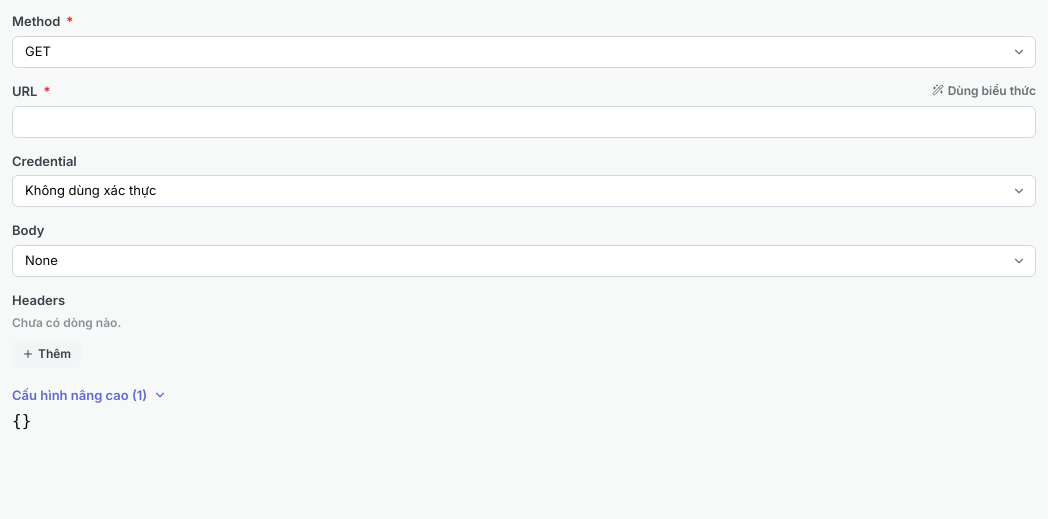
Test case: advanced fields › are collapsed until asked for
Expected: the text "Timeout" is not shown
# The label states how many are hidden, so the section is not a mystery.
Click the button "Cấu hình nâng cao (1)".
click(90, 395)  # box [12,382,167,409]
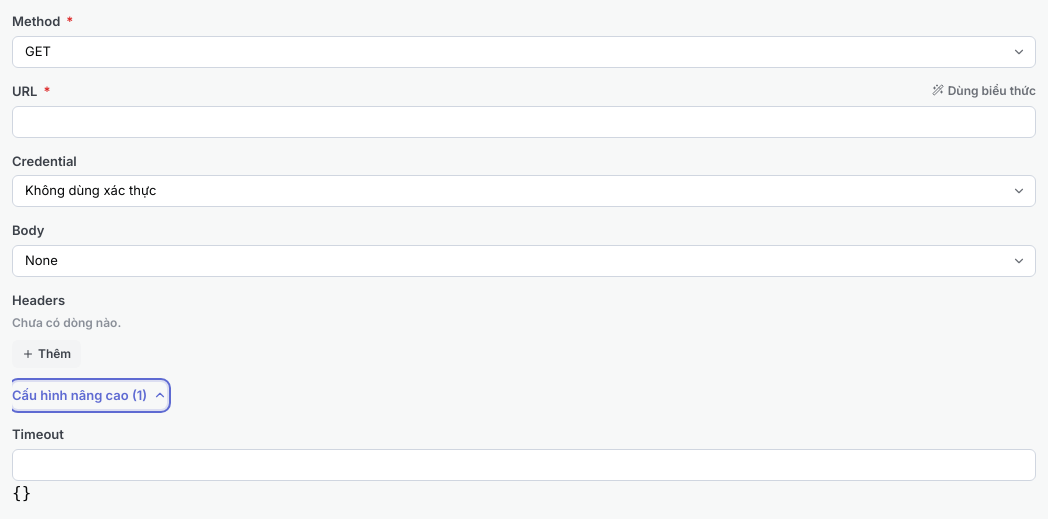
Expected: the text "Timeout" is shown, [12,425,64,445]
